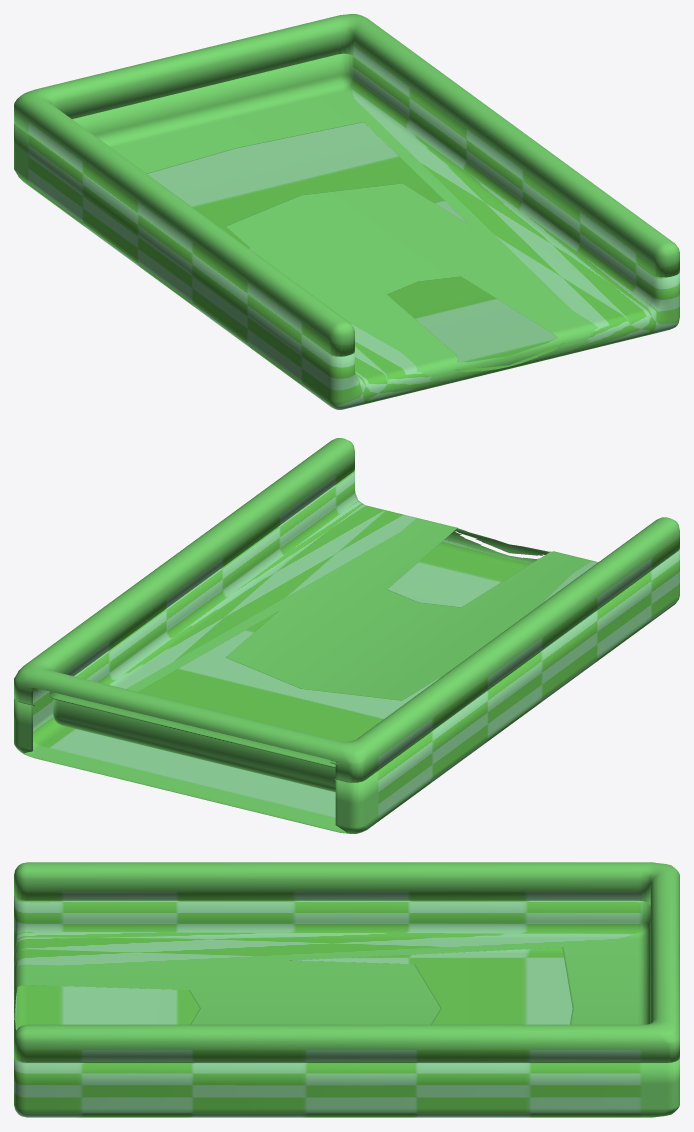
Rendered from Map_Body_Final.fbx.
The picture shows the model from 3 angles, top to bottom: view 1: azimuth 30°, elevation 25°; view 2: azimuth 150°, elevation 25°; view 3: azimuth 270°, elevation 25°; orthographic projection. The views are drawn at different scales.
Parts seen in each view (by area): view 1: Cube; view 2: Cube; view 3: Cube.
Part boxes in pixels (<box>): Cube: <box>14,14,679,409</box>; Cube: <box>14,438,679,833</box>; Cube: <box>14,862,679,1117</box>.
Size of the model in its own units: 1758 by 417 by 2833.
